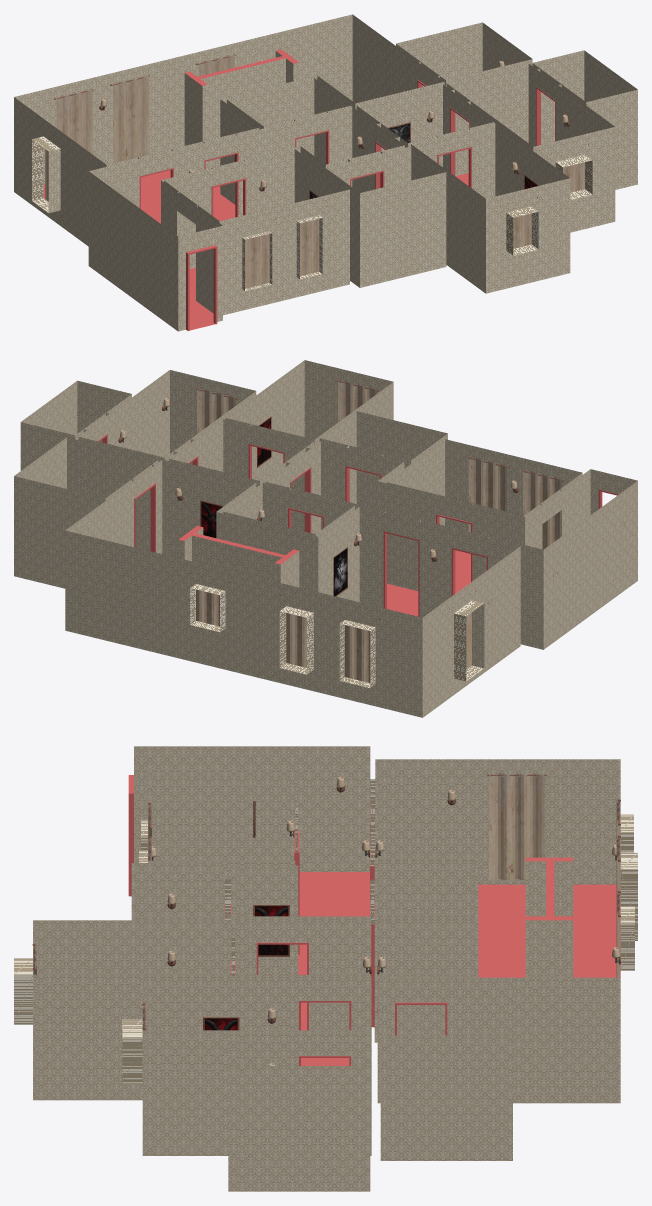
Rendered from Map.fbx.
The picture shows the model from 3 angles, top to bottom: view 1: azimuth 30°, elevation 25°; view 2: azimuth 150°, elevation 25°; view 3: azimuth 270°, elevation 25°; orthographic projection. The views are drawn at different scales.
Parts seen in each view (by area): view 1: Base; view 2: Base; view 3: Base.
Boxes of the visible parts, left/top/right/bottom form: Base: left=14, top=14, right=637, bottom=331; Base: left=14, top=360, right=637, bottom=717; Base: left=14, top=746, right=637, bottom=1191.
Size of the model in its own units: 1361 by 250 by 1122.
